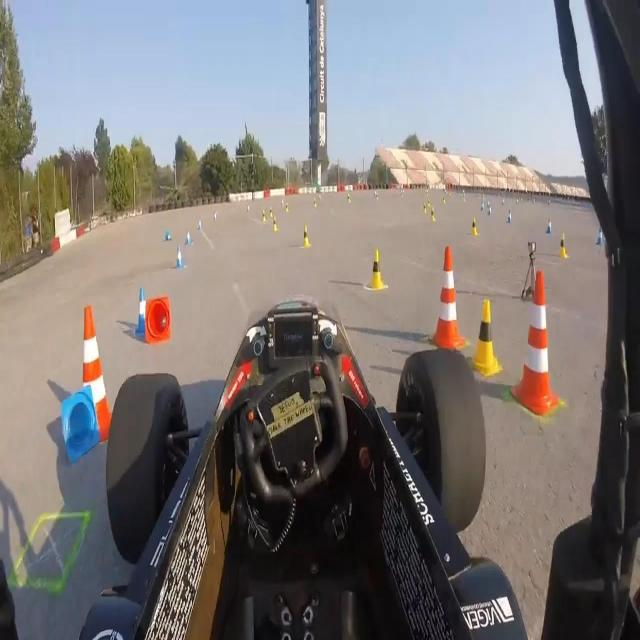blue_cone: (135, 287, 150, 335), (175, 246, 184, 270), (596, 223, 603, 249), (546, 215, 552, 236), (185, 228, 192, 245), (507, 208, 512, 226), (487, 202, 492, 220), (198, 218, 202, 230)
large_orange_cone: (520, 268, 558, 416), (78, 305, 117, 439), (435, 248, 465, 350)
yellow_cone: (470, 299, 501, 377), (369, 249, 384, 290), (558, 233, 568, 261), (301, 225, 309, 248), (471, 213, 478, 238), (430, 205, 436, 223), (268, 204, 274, 222), (261, 207, 267, 224), (272, 217, 278, 231), (423, 201, 427, 216), (285, 200, 289, 214)
